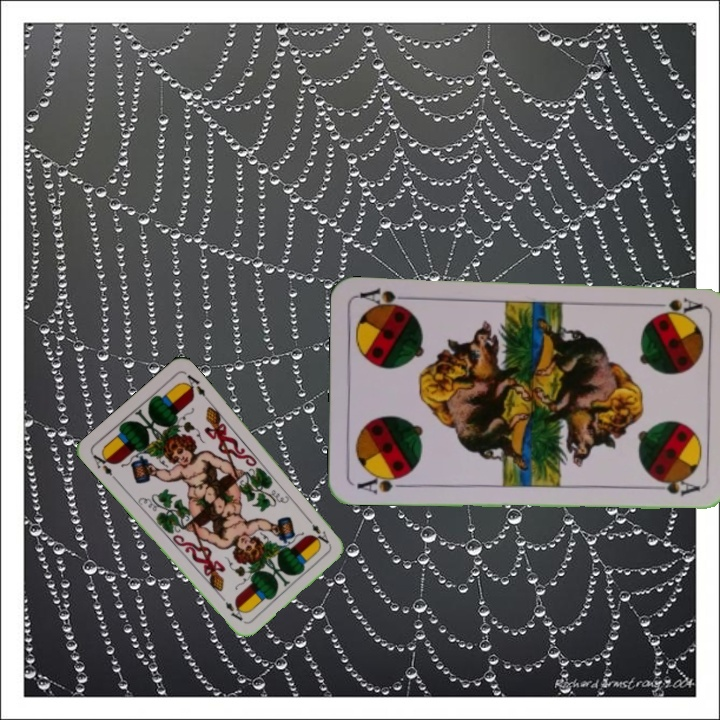EA: (89, 448, 119, 483), (302, 513, 331, 547)
SA: (353, 470, 411, 497), (645, 293, 704, 316)
